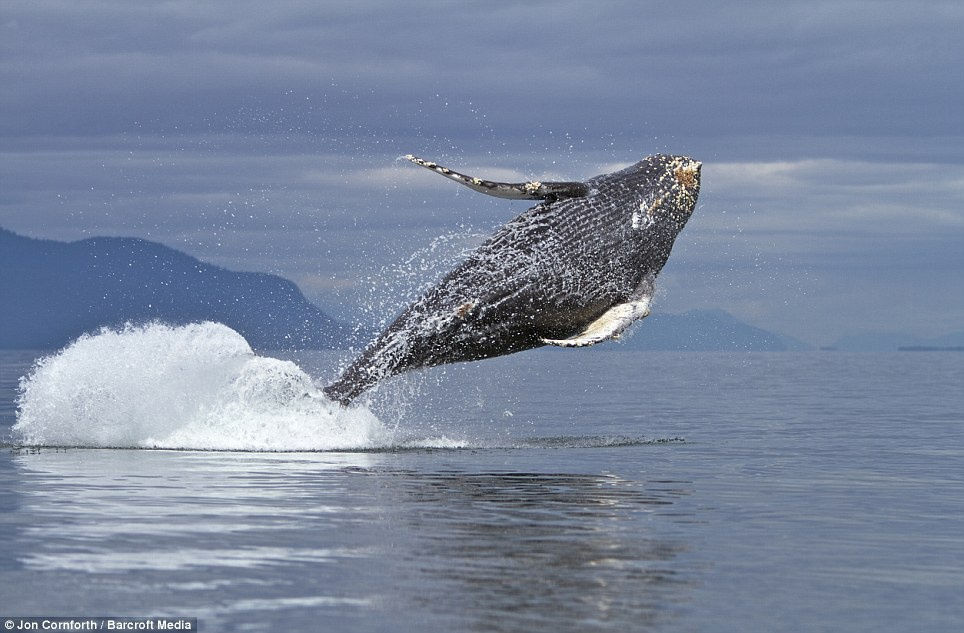humpback: (320, 155, 712, 390)
